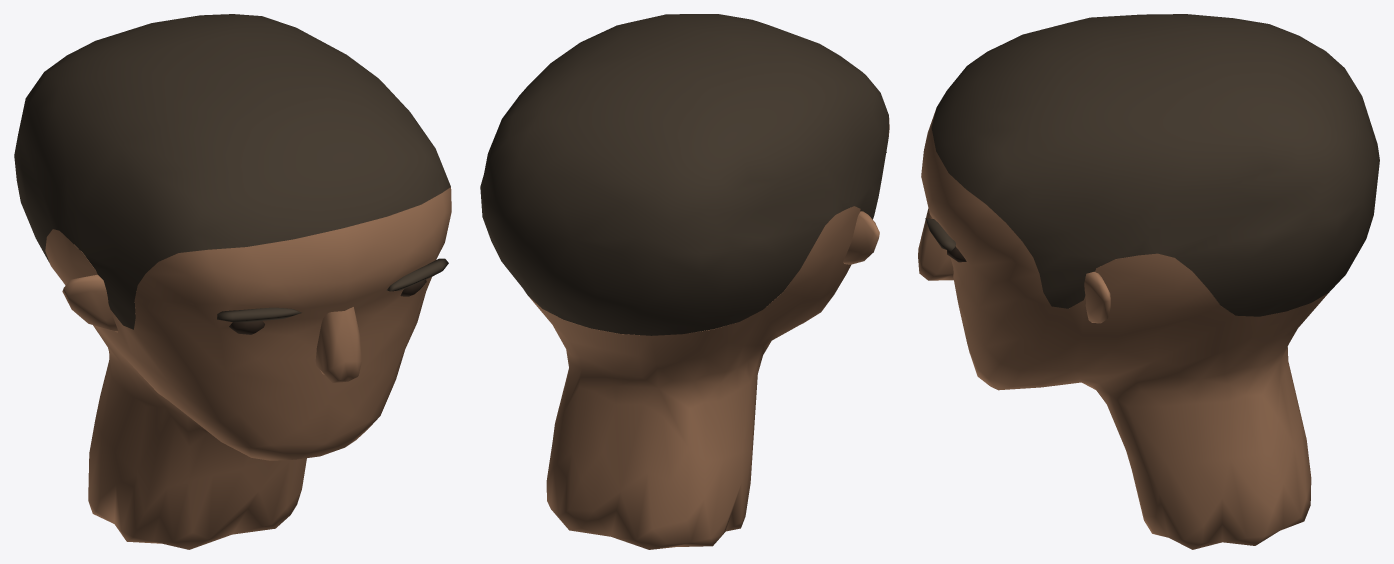
Rendered from farmer-man-head.glb.
3 views of the same model, side by side, from view 1: azimuth 30°, elevation 25°; view 2: azimuth 150°, elevation 25°; view 3: azimuth 270°, elevation 25° (orthographic). The views are drawn at different scales.
Visible parts, largest first — view 1: Identity_farmer-man; view 2: Identity_farmer-man; view 3: Identity_farmer-man.
Part boxes in pixels (<box>): Identity_farmer-man: <box>14,14,451,549</box>; Identity_farmer-man: <box>480,14,889,549</box>; Identity_farmer-man: <box>918,14,1379,549</box>.
Size of the model in its own units: 1 by 1.23 by 1.09.
